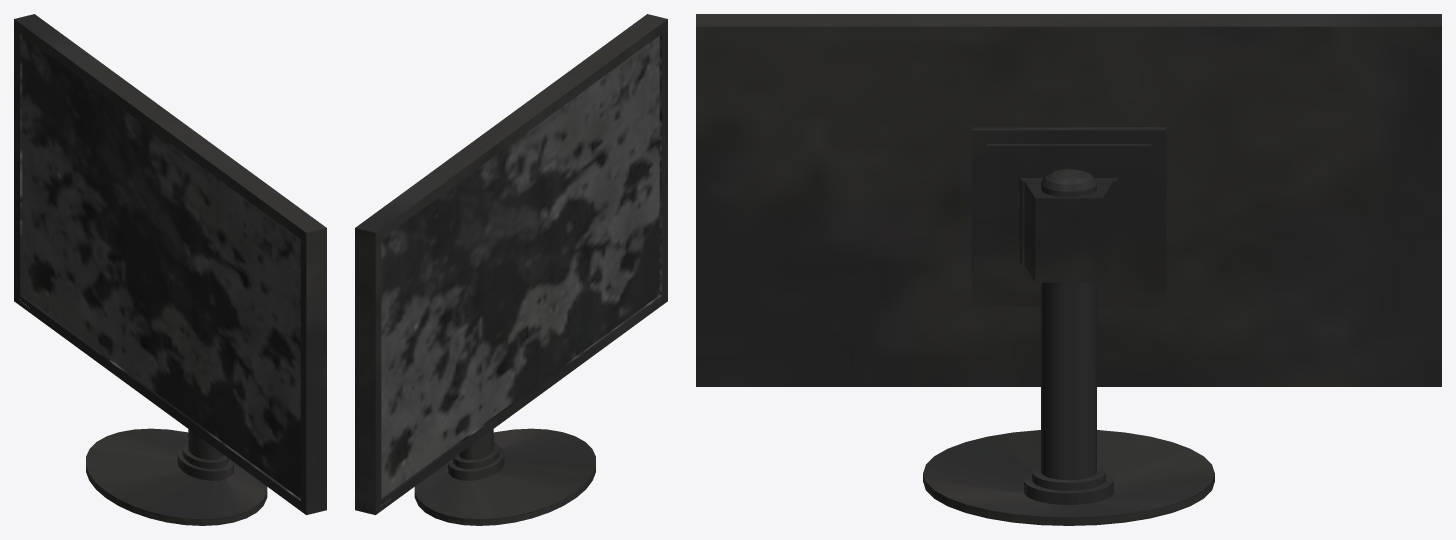
The model's file is Monitor.fbx.
3 views of the same model, side by side, from view 1: azimuth 30°, elevation 25°; view 2: azimuth 150°, elevation 25°; view 3: azimuth 270°, elevation 25° (orthographic). The views are drawn at different scales.
Parts seen in each view (by area): view 1: Cube; view 2: Cube; view 3: Cube.
Part boxes in pixels (x1,y1,x2,y2): Cube: (14,14,326,525); Cube: (355,14,667,525); Cube: (696,14,1441,525).
Size of the model in its own units: 384 by 929 by 1372.
